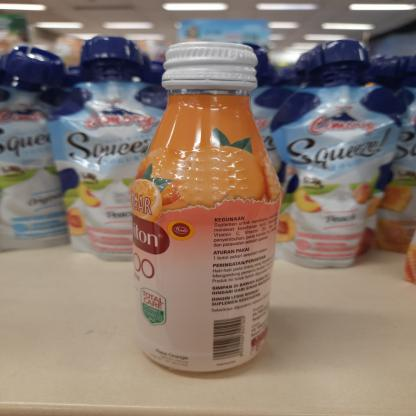bottle: (127, 36, 282, 382)
